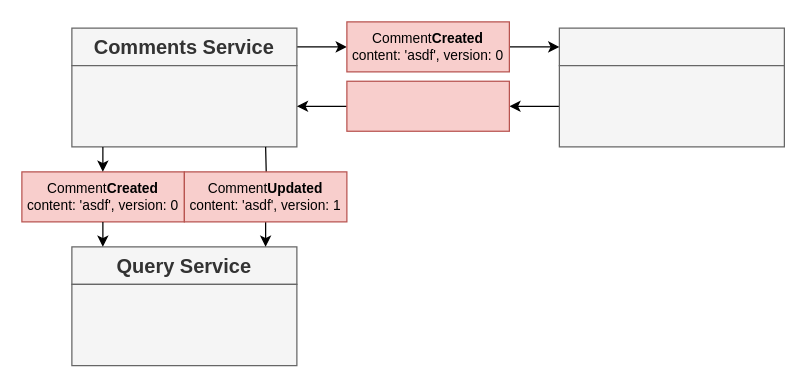
This 806x388 diagram has some shape labels left out. Here are the shapes that lost their labels. From the top down, the centre of each, then its label:
At [671,46]: "Moderation Service".
At [427,105]: "Comment Moderated content: 'asdf', version: 0".
